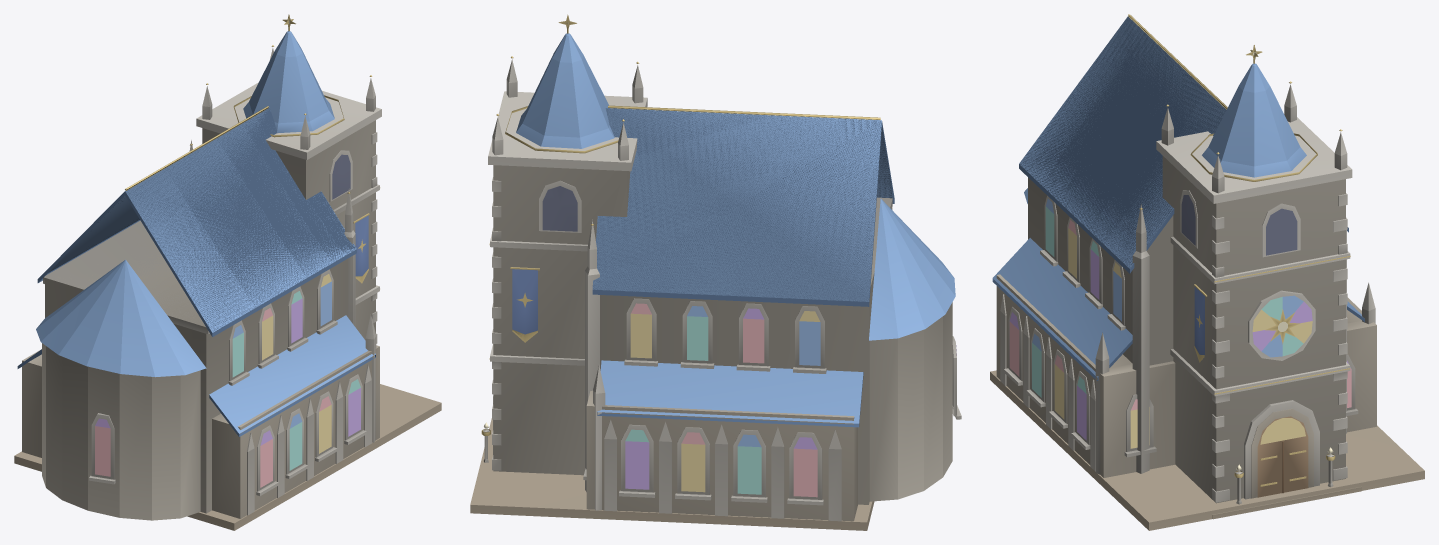
Rendered from church_lite.glb.
The picture shows the model from 3 angles, left to right: view 1: azimuth 30°, elevation 25°; view 2: azimuth 150°, elevation 25°; view 3: azimuth 270°, elevation 25°; orthographic projection. The views are drawn at different scales.
Parts seen in each view (by area): view 1: Church_stone, Church_roof, Church_glow, Church_props; view 2: Church_stone, Church_roof, Church_glow, Church_props; view 3: Church_stone, Church_roof, Church_glow, Church_props.
Part boxes in pixels (left/top/right/bottom): Church_stone: left=14, top=48, right=441, bottom=530; Church_roof: left=17, top=31, right=375, bottom=436; Church_glow: left=95, top=20, right=360, bottom=487; Church_props: left=125, top=14, right=380, bottom=283; Church_stone: left=470, top=59, right=961, bottom=530; Church_roof: left=516, top=33, right=955, bottom=427; Church_glow: left=483, top=23, right=956, bottom=497; Church_props: left=481, top=14, right=880, bottom=435; Church_stone: left=990, top=84, right=1424, bottom=530; Church_roof: left=992, top=16, right=1364, bottom=380; Church_glow: left=1009, top=52, right=1351, bottom=470; Church_props: left=1128, top=14, right=1350, bottom=497.
Bounding box in the file's own units: 18.83 × 17.98 × 16.51.
